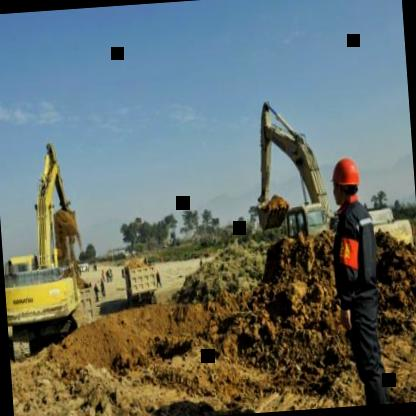helmet: (330, 154, 364, 206)
